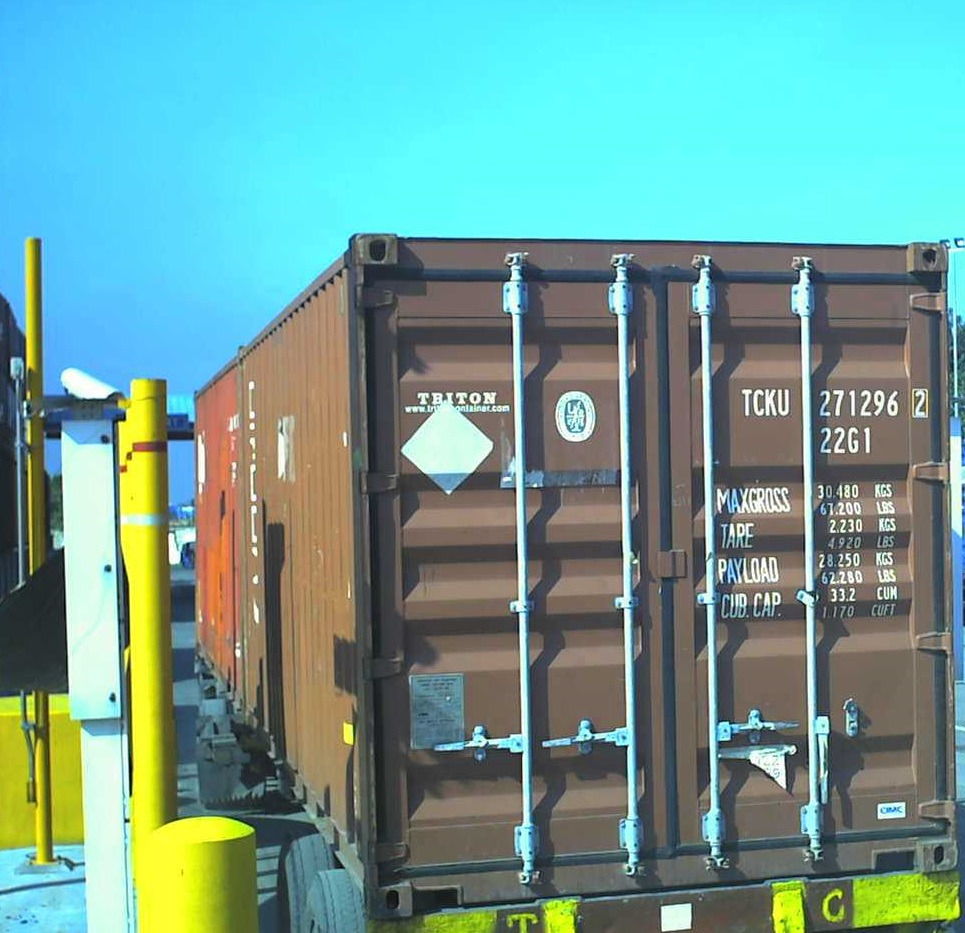container_door: (348, 225, 961, 905)
